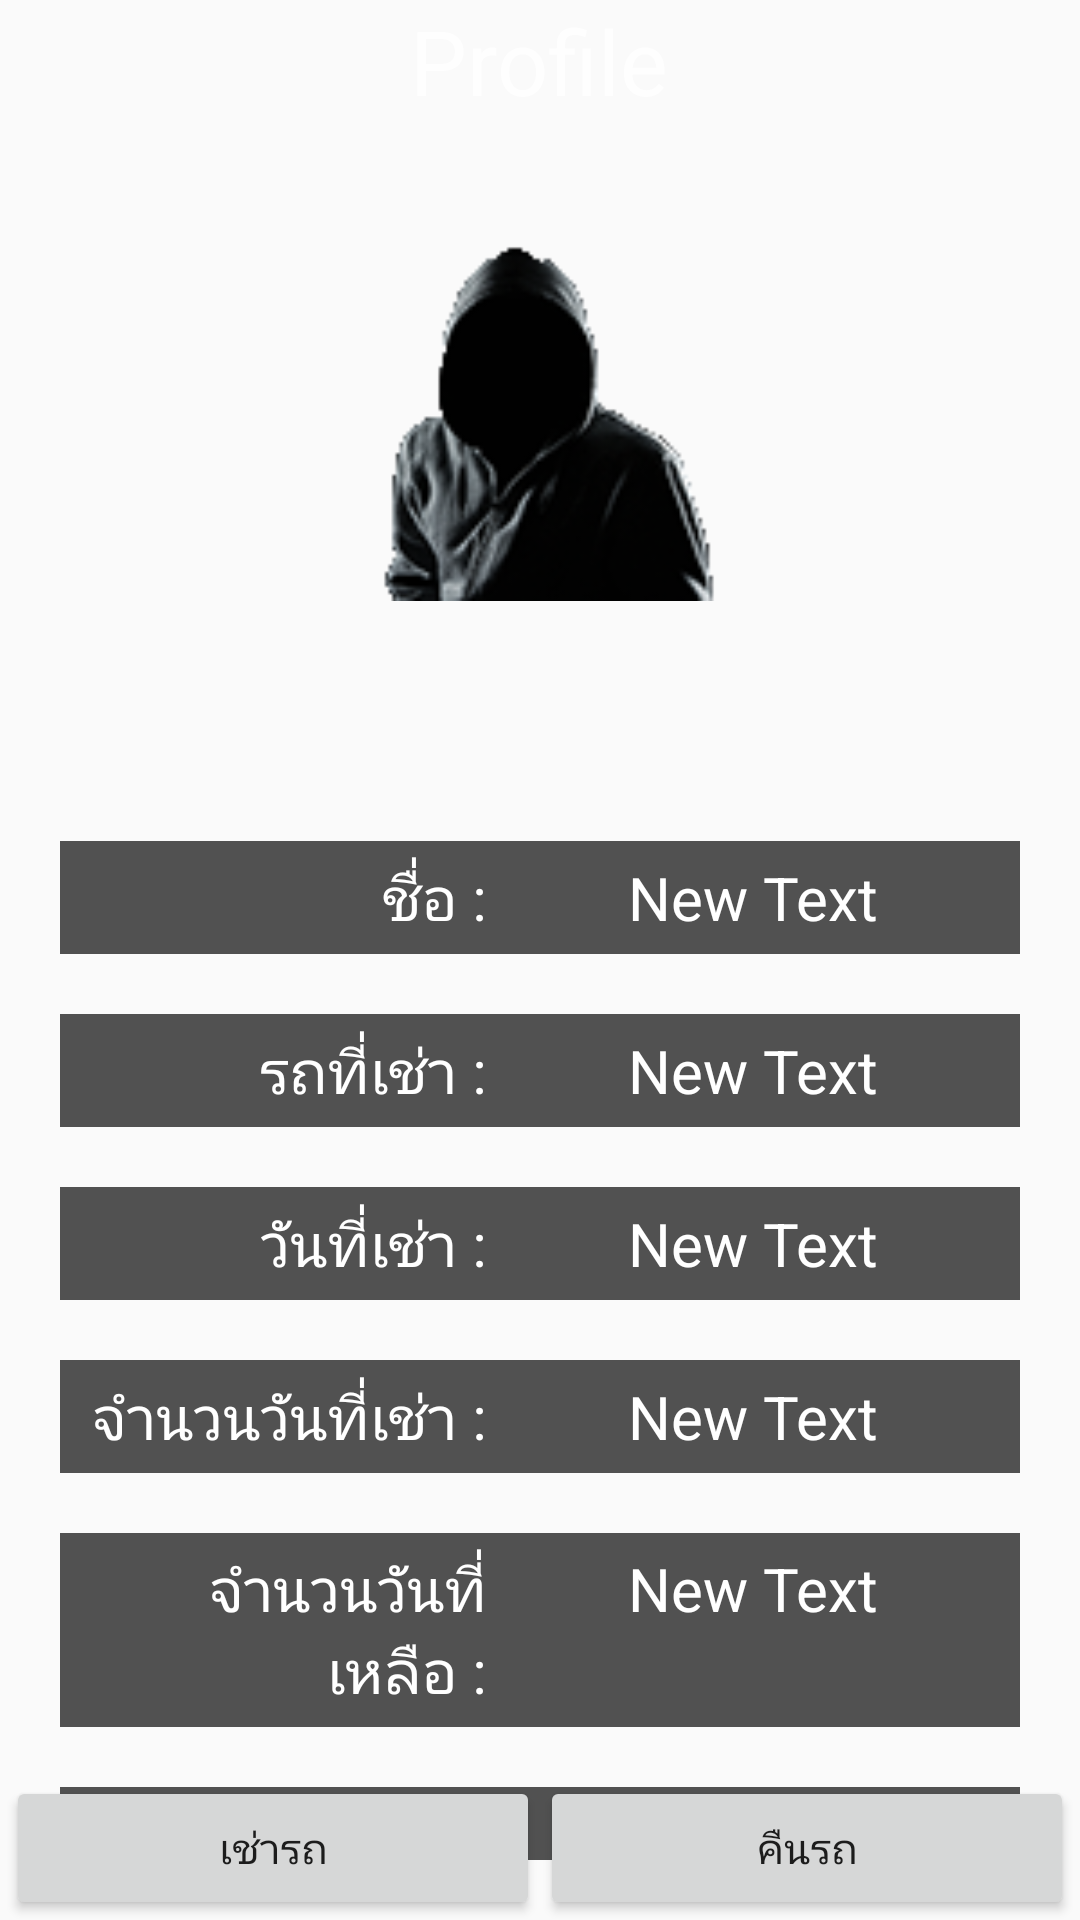

Icon bounding boxes for this 1080 x 1920 phone screenshot, format (x1, y1, x2, y2):
user: (384, 247, 714, 601)
